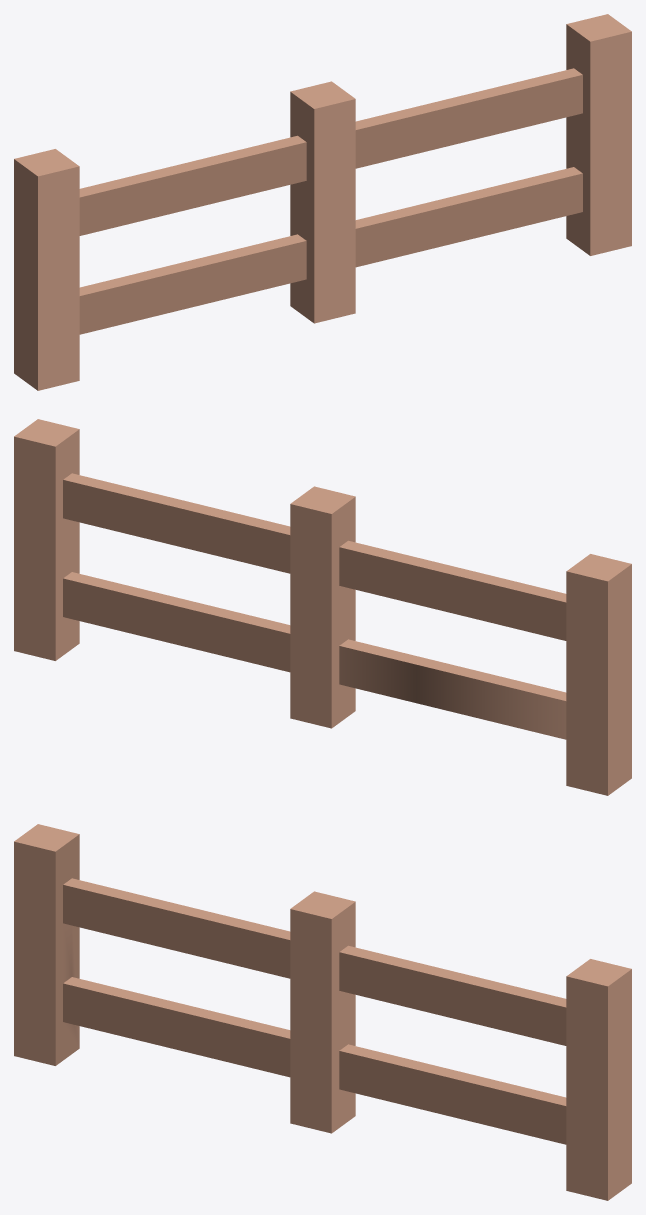
The model's file is fence_simpleCenter.glb.
3 renders of one model, top to bottom at view 1: azimuth 30°, elevation 25°; view 2: azimuth 150°, elevation 25°; view 3: azimuth 330°, elevation 25°, orthographic.
Visible parts, largest first — view 1: fence_simpleCenter; view 2: fence_simpleCenter; view 3: fence_simpleCenter.
Boxes of the visible parts, x1,y1,x2,y2 form: fence_simpleCenter: (14,14,631,390); fence_simpleCenter: (14,419,631,795); fence_simpleCenter: (14,824,631,1200).
Bounding box in the file's own units: 1 × 0.345 × 0.07.
